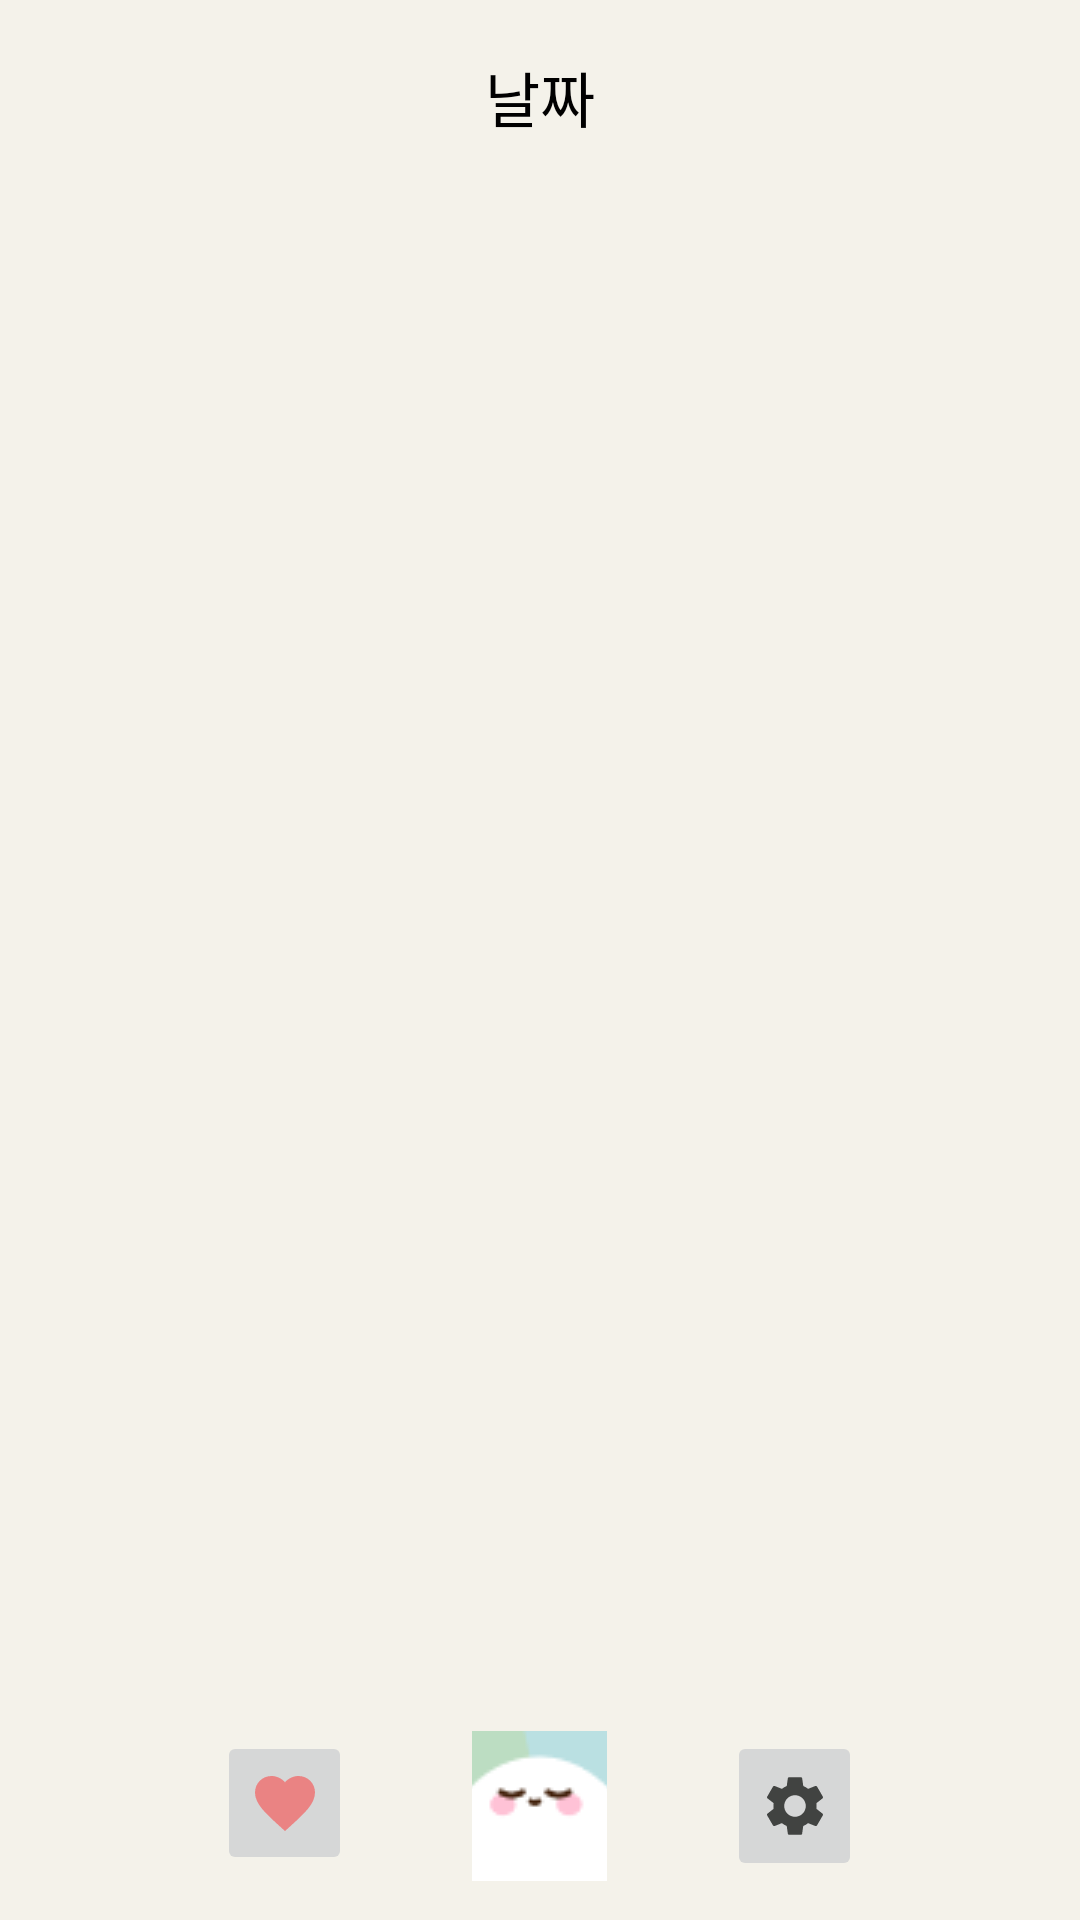

Icons on this 1080 × 1920 Android screen, each with the point to tap as [x,y]:
favorite: [284,1803]
settings: [794,1806]
